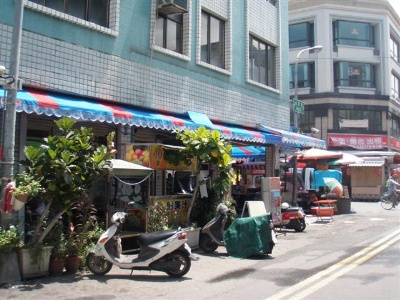plastic_bag: (4, 93, 262, 140), (226, 216, 272, 254), (263, 126, 326, 149)
